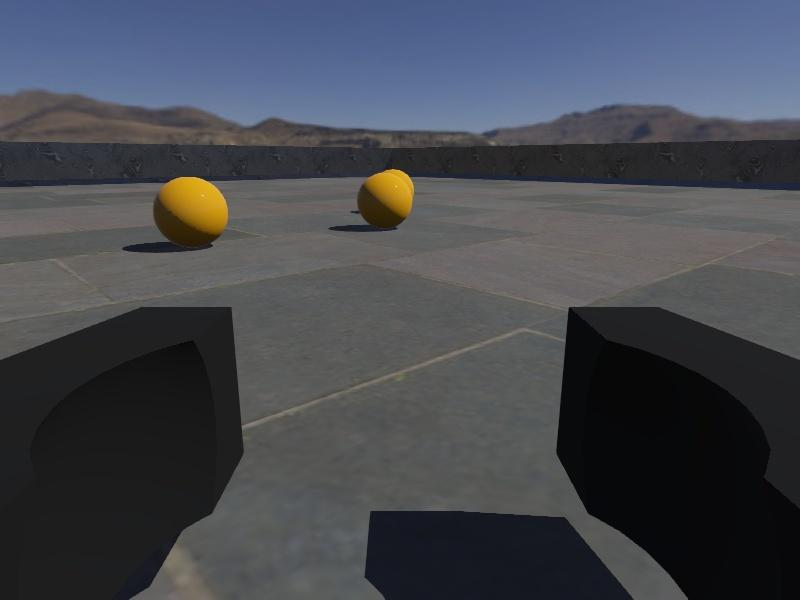orange ball: (153, 176, 229, 248), (356, 172, 413, 229)
